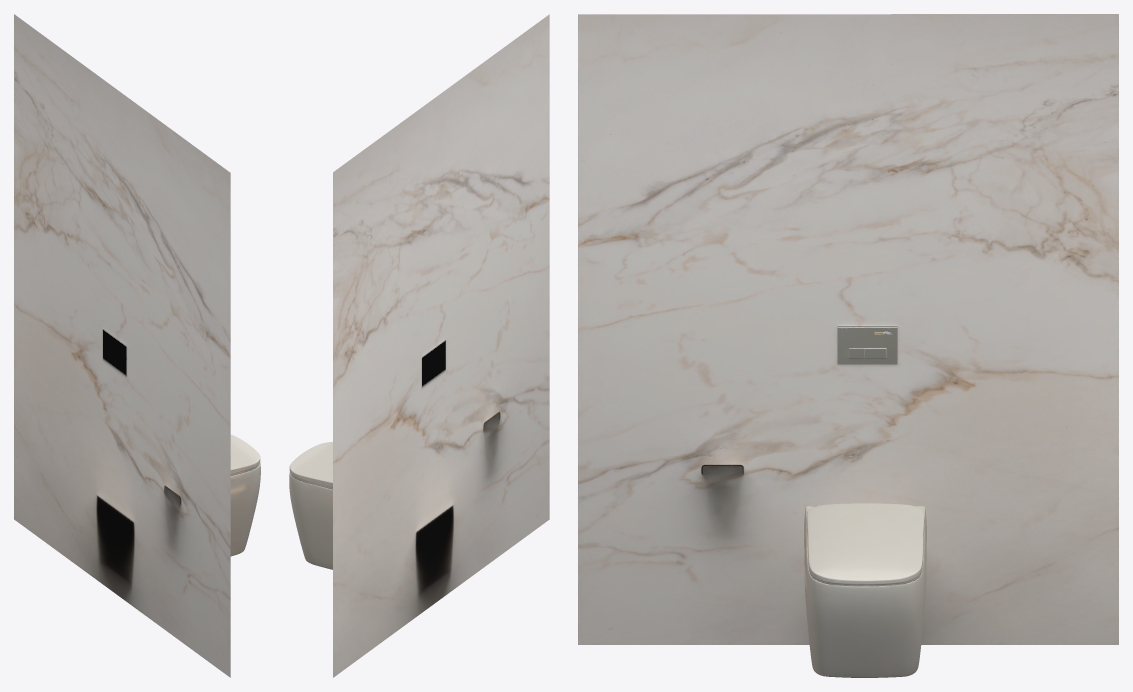
File: starc.glb
The picture shows the model from 3 angles, left to right: view 1: azimuth 30°, elevation 25°; view 2: azimuth 150°, elevation 25°; view 3: azimuth 270°, elevation 25°; orthographic projection. The views are drawn at different scales.
Parts seen in each view (by area): view 1: starc; view 2: starc; view 3: starc.
Boxes of the visible parts, bbox=[...] form: starc: bbox=[14, 14, 260, 677]; starc: bbox=[289, 14, 549, 677]; starc: bbox=[578, 14, 1118, 677].
Size of the model in its own units: 0.6922 by 2.5 by 1.94.
Materials: 1 (1 with a texture image).
